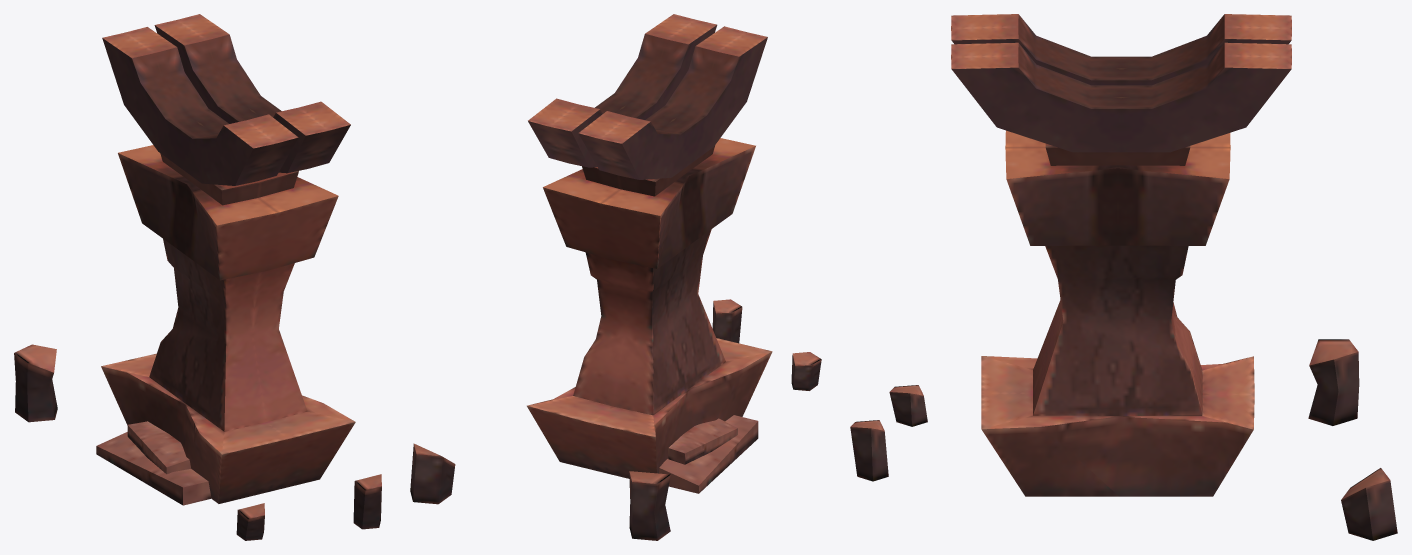
File: shipai02.FBX
3 views of the same model, side by side, from view 1: azimuth 30°, elevation 25°; view 2: azimuth 150°, elevation 25°; view 3: azimuth 270°, elevation 25° (orthographic). The views are drawn at different scales.
Parts seen in each view (by area): view 1: shipai02; view 2: shipai02; view 3: shipai02.
Part boxes in pixels (<box>): shipai02: <box>14,14,381,540</box>; shipai02: <box>410,14,821,540</box>; shipai02: <box>850,14,1397,540</box>.
Size of the model in its own units: 229 by 392 by 338.
